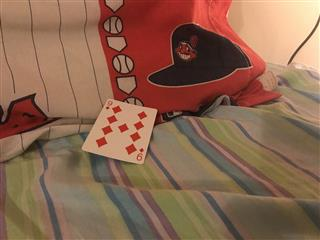NineOfDiamonds: (80, 97, 158, 165)
